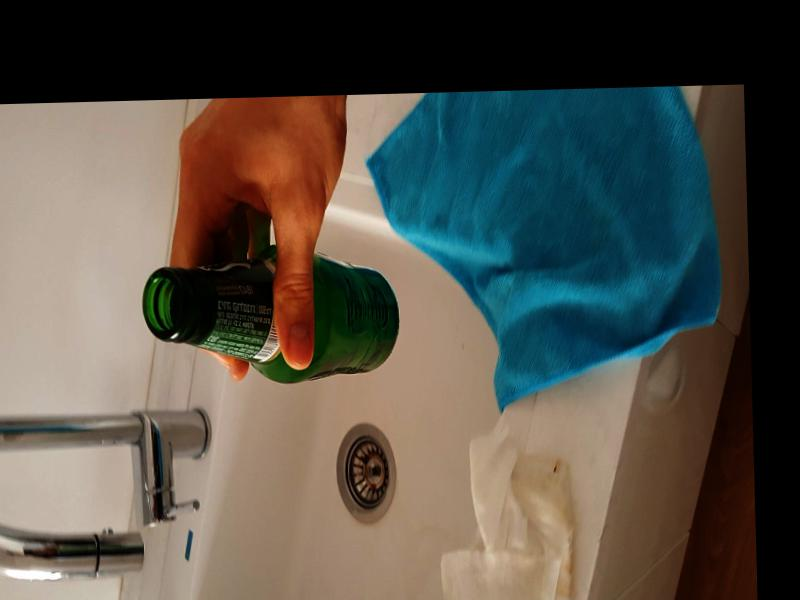Beer: (142, 244, 402, 389)
